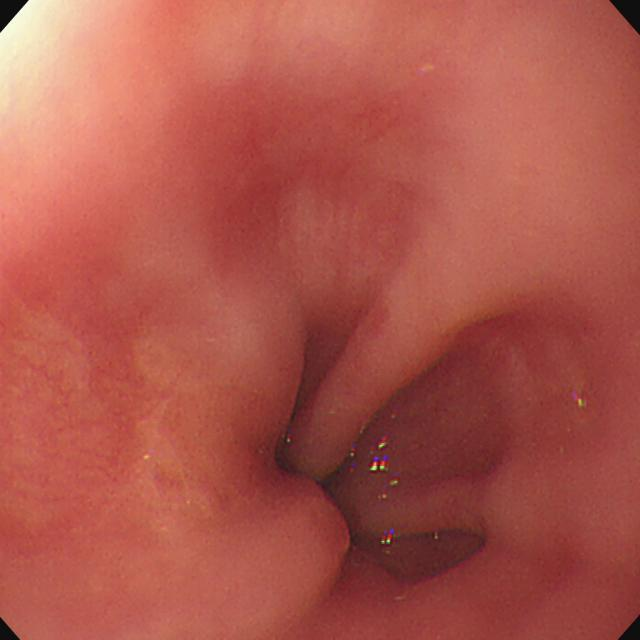I: (214, 264, 538, 621)
U: (371, 457, 391, 472), (381, 531, 395, 545)
